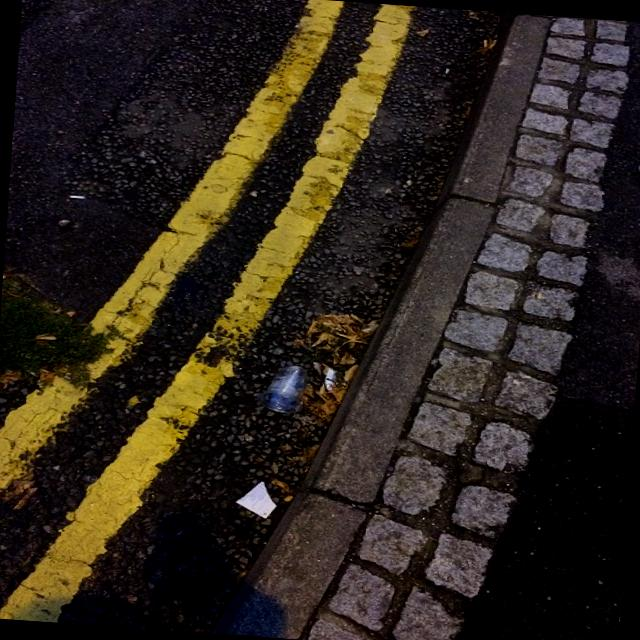Recycle: (254, 359, 314, 416)
